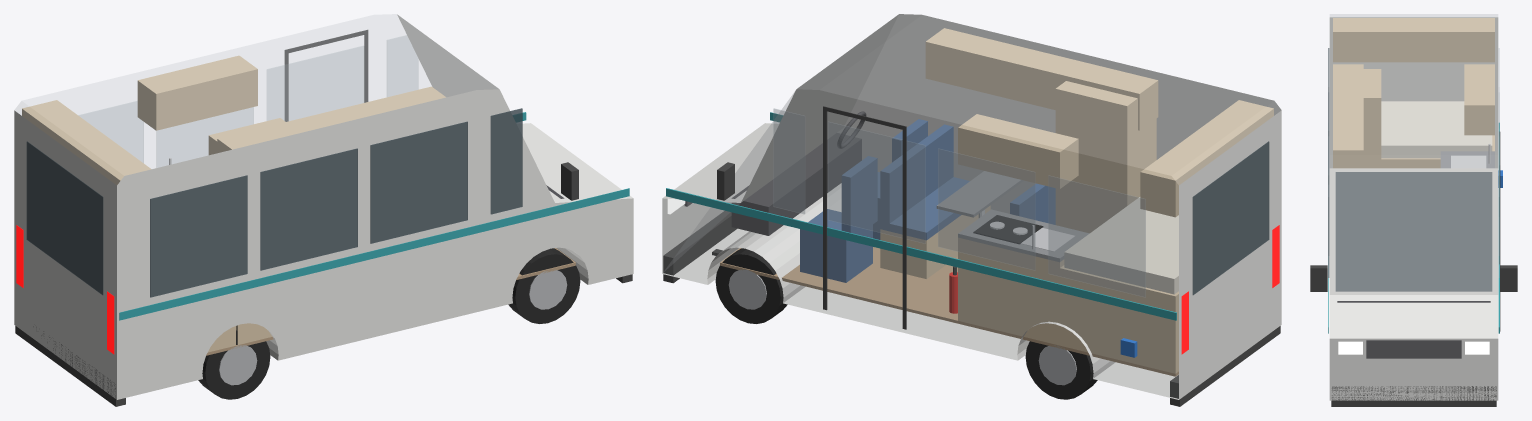
Rendered from force_traveller_3350wb.glb.
The picture shows the model from 3 angles, left to right: view 1: azimuth 30°, elevation 25°; view 2: azimuth 150°, elevation 25°; view 3: azimuth 270°, elevation 25°; orthographic projection. The views are drawn at different scales.
Parts seen in each view (by area): view 1: Body_Shell, Body_Cutaway_LeftWall_Roof, Window_Right_1, Window_Right_2, Window_Right_0, Window_Rear, Storage_Overhead_Left_Kitchen, Window_Left_0, Stripe_Right, Storage_Overhead_Rear, Storage_Overhead_Right, Window_Cab_Right (+10 smaller); view 2: Body_Cutaway_LeftWall_Roof, Body_Shell, Storage_Wardrobe_Tall, Storage_Overhead_Right, Window_Left_2, Window_Left_1, Window_Left_0, Bed_Platform_Fixed_Rear, Kitchen_Base_Cabinets, Window_Rear, Bed_Mattress_Double, Storage_Overhead_Left_Kitchen (+25 smaller); view 3: Body_Shell, Body_Cutaway_LeftWall_Roof, Windscreen, Storage_Overhead_Rear, Bed_Mattress_Double, Storage_Overhead_Right, Bumper_Front, Storage_Overhead_Left_Kitchen, Storage_Wardrobe_Tall, Grille, Bed_Platform_Fixed_Rear, Kitchen_Countertop (+8 smaller).
Part boxes in pixels (x1,y1,x2,y2): Body_Shell: [14, 14, 633, 399]; Body_Cutaway_LeftWall_Roof: [15, 14, 497, 184]; Window_Right_1: [260, 148, 357, 270]; Window_Right_2: [150, 175, 247, 297]; Window_Right_0: [370, 121, 467, 243]; Window_Rear: [26, 141, 103, 295]; Storage_Overhead_Left_Kitchen: [137, 55, 257, 130]; Window_Left_0: [267, 46, 363, 120]; Stripe_Right: [119, 188, 629, 320]; Storage_Overhead_Rear: [22, 100, 151, 184]; Storage_Overhead_Right: [217, 86, 445, 153]; Window_Cab_Right: [490, 108, 522, 214]; Body_Cutaway_LeftWall_Roof: [663, 14, 1280, 399]; Body_Shell: [662, 14, 1281, 399]; Storage_Wardrobe_Tall: [1055, 81, 1156, 233]; Storage_Overhead_Right: [925, 28, 1158, 130]; Window_Left_2: [1048, 175, 1145, 297]; Window_Left_1: [938, 148, 1035, 270]; Window_Left_0: [828, 122, 925, 243]; Bed_Platform_Fixed_Rear: [1060, 265, 1178, 373]; Kitchen_Base_Cabinets: [958, 237, 1064, 345]; Window_Rear: [1192, 141, 1269, 295]; Bed_Mattress_Double: [1064, 197, 1178, 294]; Storage_Overhead_Left_Kitchen: [958, 114, 1078, 188]; Body_Shell: [1329, 17, 1498, 400]; Body_Cutaway_LeftWall_Roof: [1330, 14, 1497, 167]; Windscreen: [1335, 172, 1492, 291]; Storage_Overhead_Rear: [1333, 18, 1494, 62]; Bed_Mattress_Double: [1381, 101, 1492, 158]; Storage_Overhead_Right: [1333, 64, 1363, 168]; Bumper_Front: [1331, 386, 1496, 406]; Storage_Overhead_Left_Kitchen: [1464, 64, 1494, 135]; Storage_Wardrobe_Tall: [1363, 69, 1381, 168]; Grille: [1366, 340, 1461, 358]; Bed_Platform_Fixed_Rear: [1381, 135, 1494, 168]; Kitchen_Countertop: [1440, 151, 1494, 168].
Bounding box in the file's own units: 5.6 × 2.62 × 2.37.
